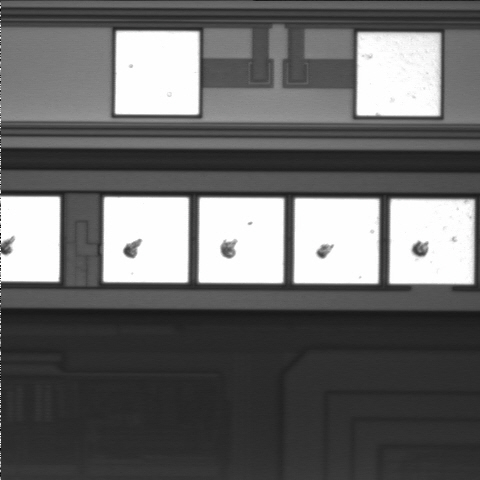pad: (103, 197, 189, 283), (199, 198, 284, 283), (294, 198, 379, 283), (390, 199, 474, 284), (115, 31, 199, 115), (357, 33, 440, 116)
